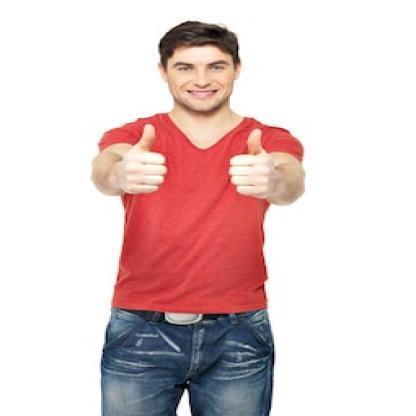thumb_up: (108, 122, 174, 198), (222, 126, 286, 200)
